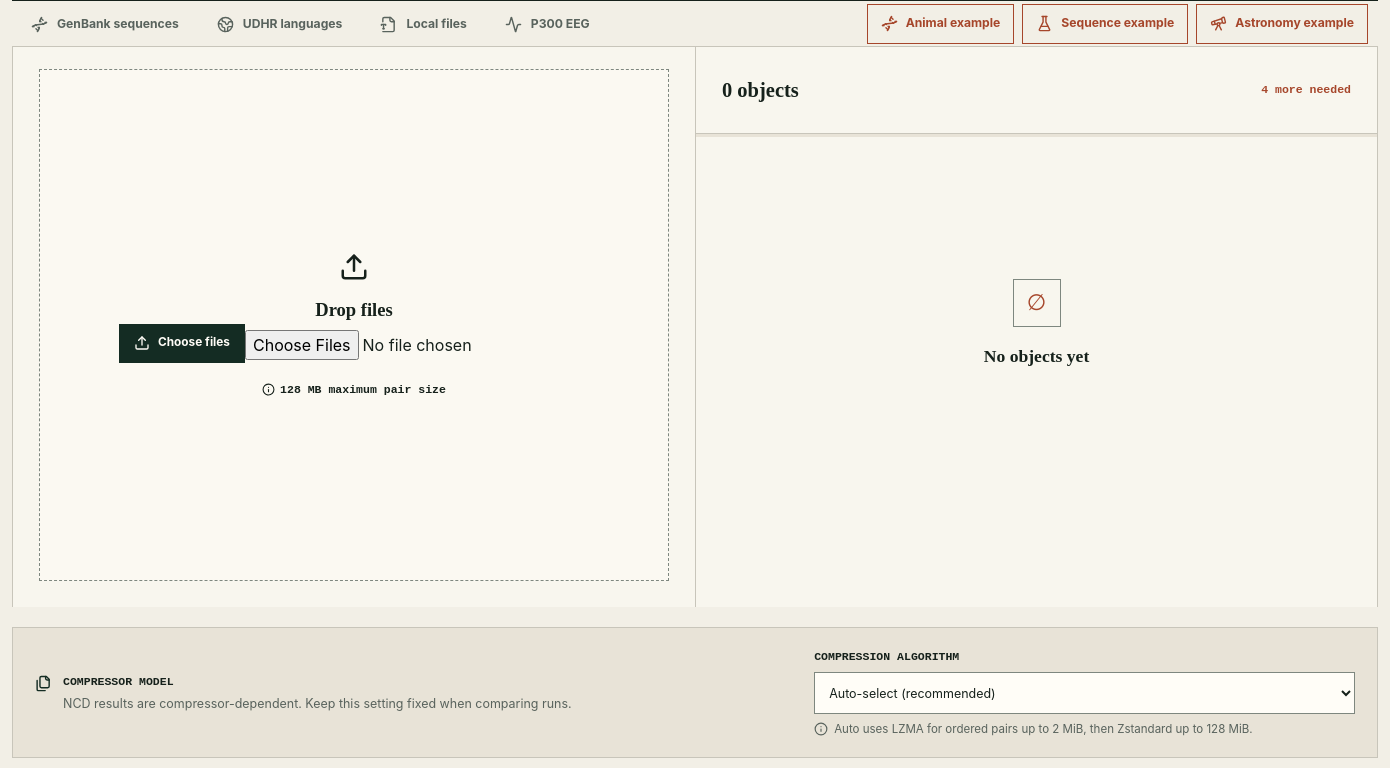
Test: NCD workbench › loads the verified astronomy example from one concise action
The width and height of the screenshot is (1390, 768).
Click the button "Astronomy example" at (1282, 24), box x1=1196 y1=4 x2=1368 y2=44
(page scrolled)
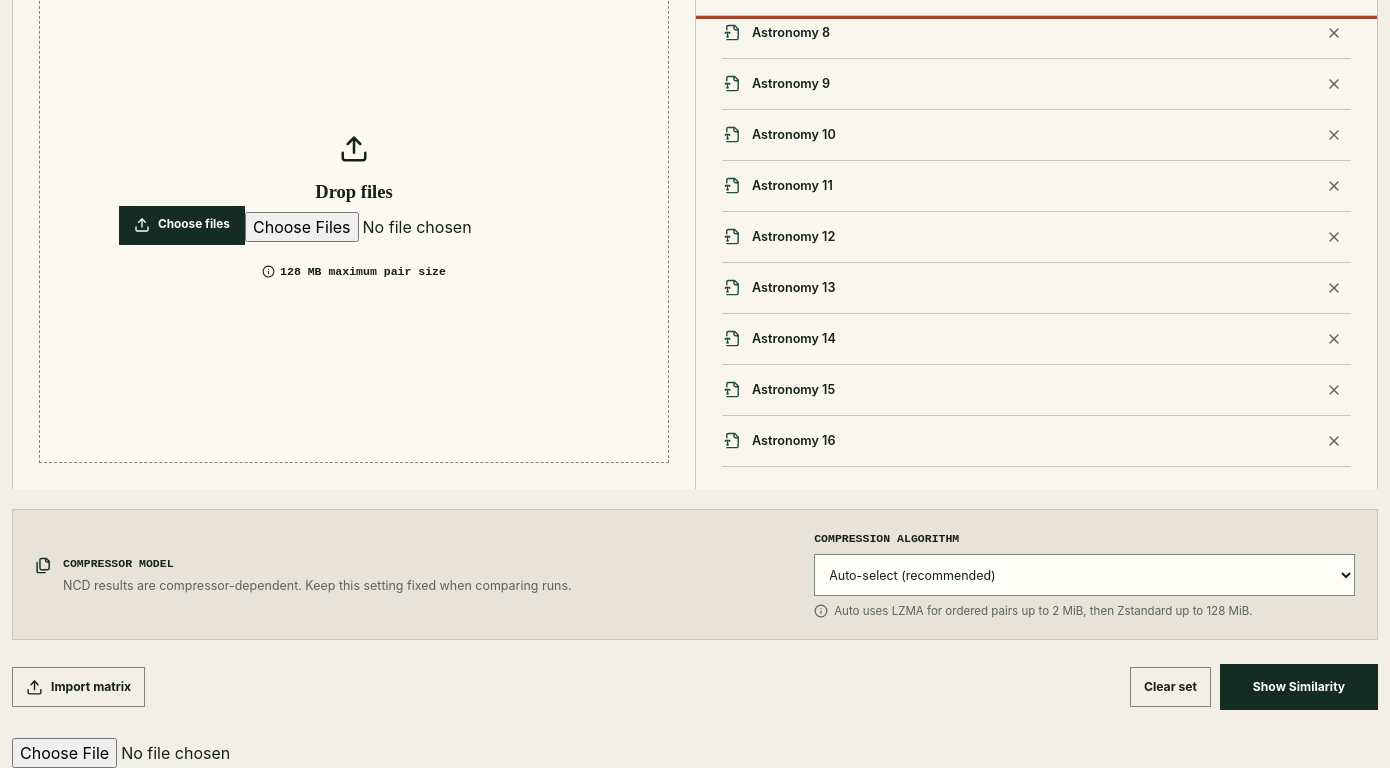
Result: the text "Astronomy 16" is shown at x1=752 y1=432 x2=836 y2=450
